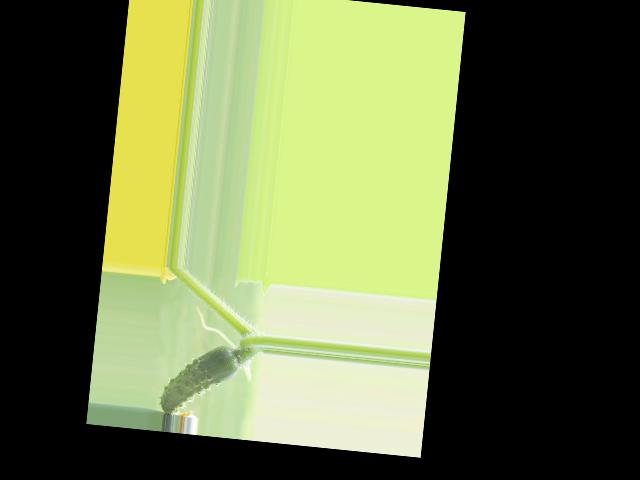cucumber: (158, 338, 240, 419)
